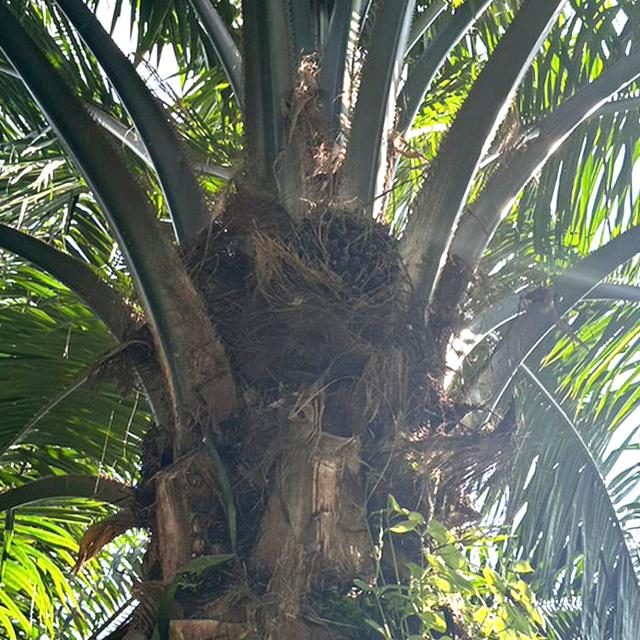unripe: (278, 185, 414, 356)
